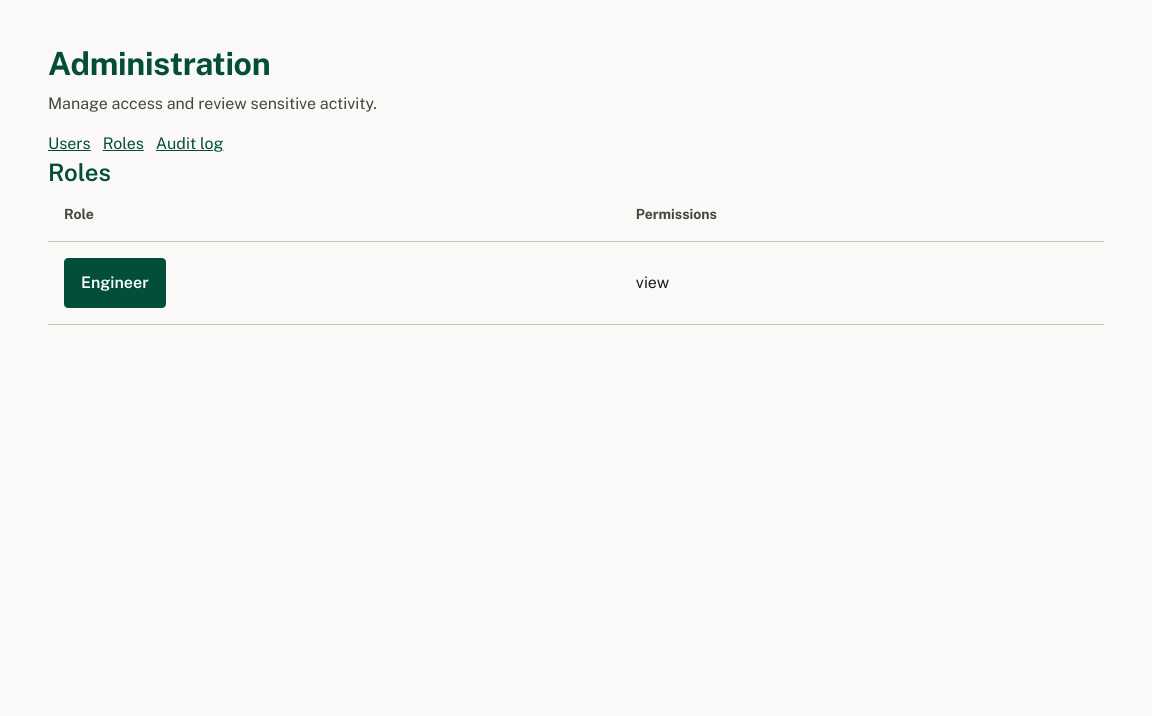
Test case: administration › edits role permissions and reports success
Click the button "Engineer".
click(115, 283)  # box top-left (64, 258), bottom-right (166, 308)
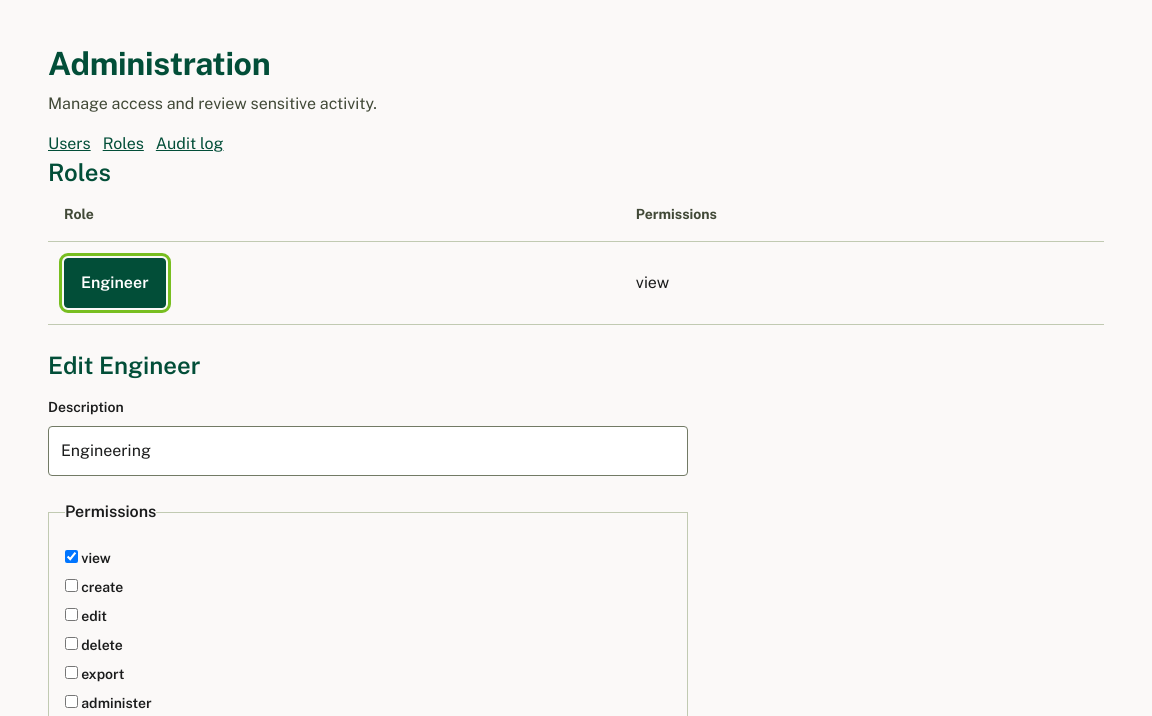
Click the checkbox labelled "create".
click(72, 586)  # box top-left (65, 579), bottom-right (78, 592)
(page scrolled)
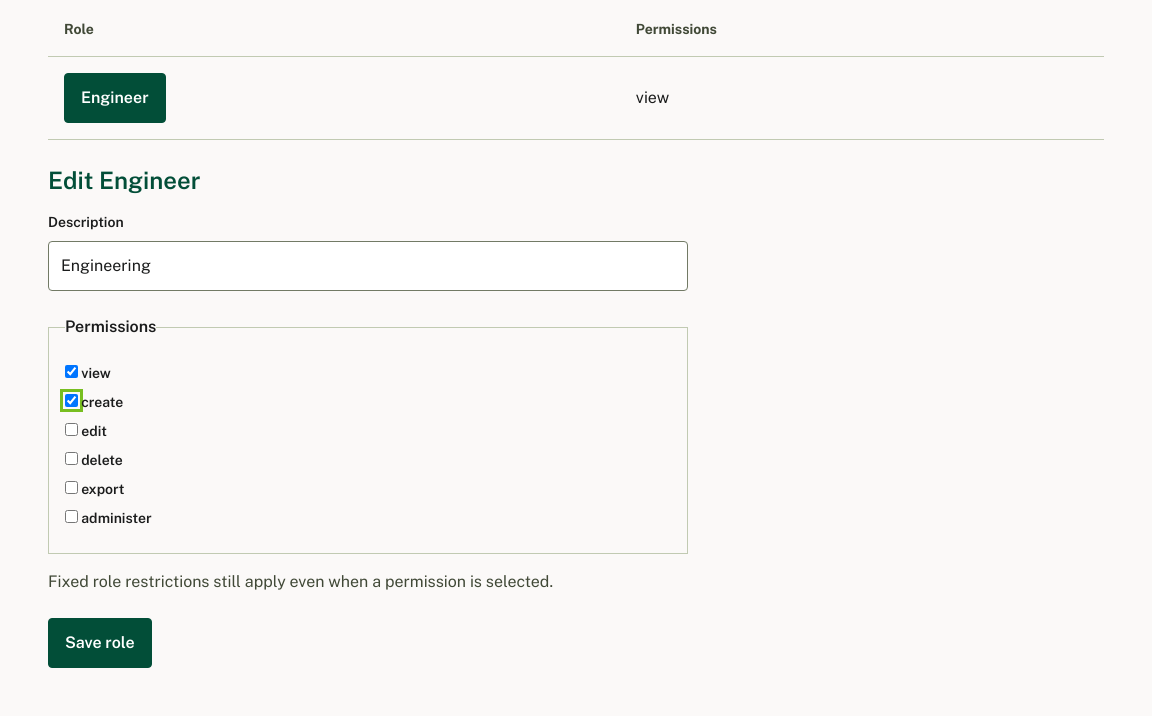
Click the button "Save role".
click(100, 643)  # box top-left (48, 618), bottom-right (152, 668)
(page scrolled)
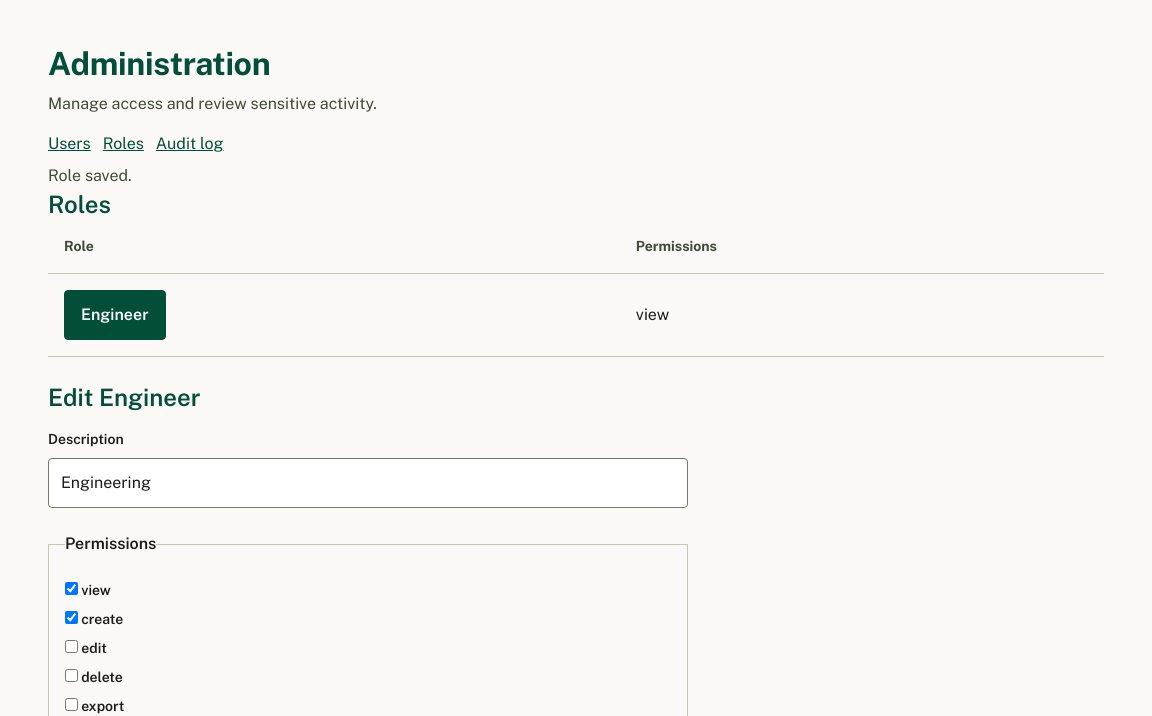
Expected: the text "Role saved." is shown, top-left (48, 166), bottom-right (132, 185)
